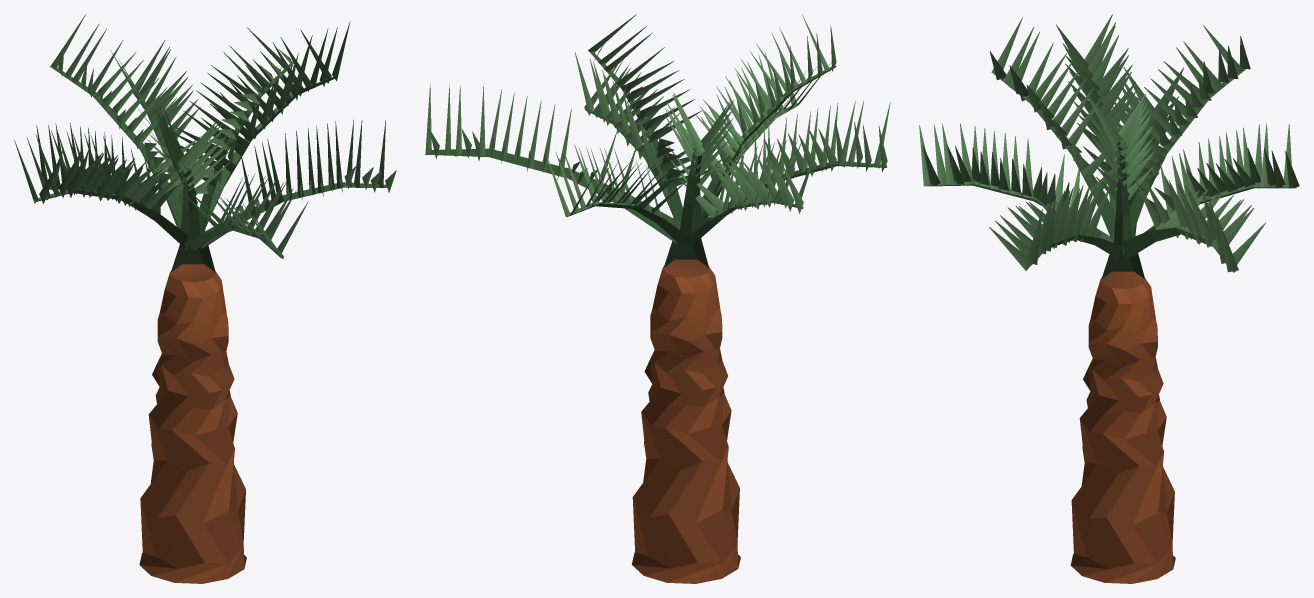
File: sawit 3.fbx
The picture shows the model from 3 angles, left to right: view 1: azimuth 30°, elevation 25°; view 2: azimuth 150°, elevation 25°; view 3: azimuth 270°, elevation 25°; orthographic projection. The views are drawn at different scales.
Visible parts, largest first — view 1: sawit 3; view 2: sawit 3; view 3: sawit 3.
Boxes of the visible parts, left/top/right/bottom form: sawit 3: left=14, top=14, right=396, bottom=583; sawit 3: left=425, top=14, right=890, bottom=583; sawit 3: left=919, top=14, right=1299, bottom=583.
Bounding box in the file's own units: 406 × 513 × 352.
